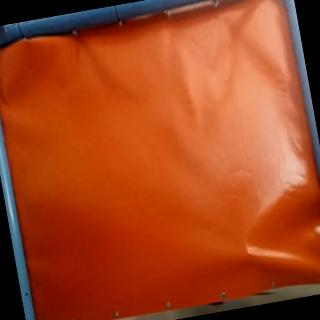Hit-hRxx: (241, 245, 256, 260)
